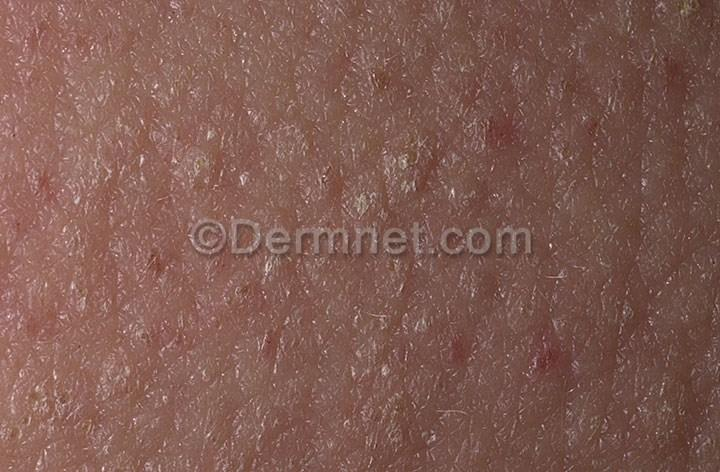liquenificacion 1: (0, 0, 719, 472)
xerosis 1: (337, 121, 432, 228)
